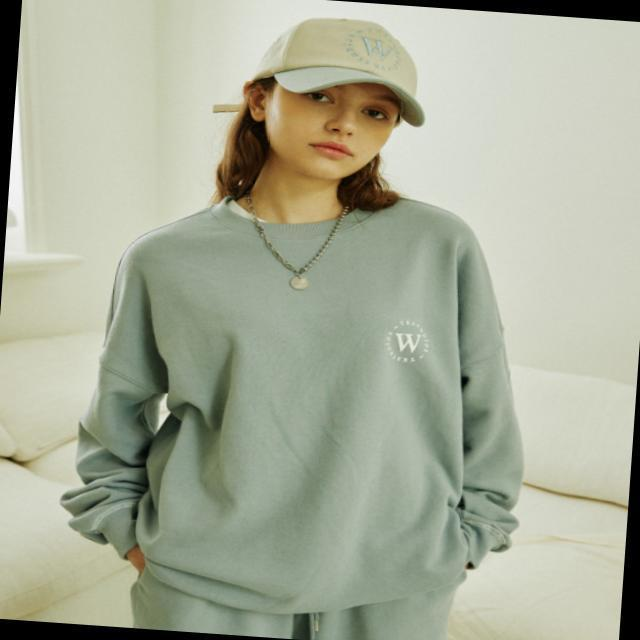sweater: (61, 189, 532, 615)
trousers: (127, 548, 463, 640)
